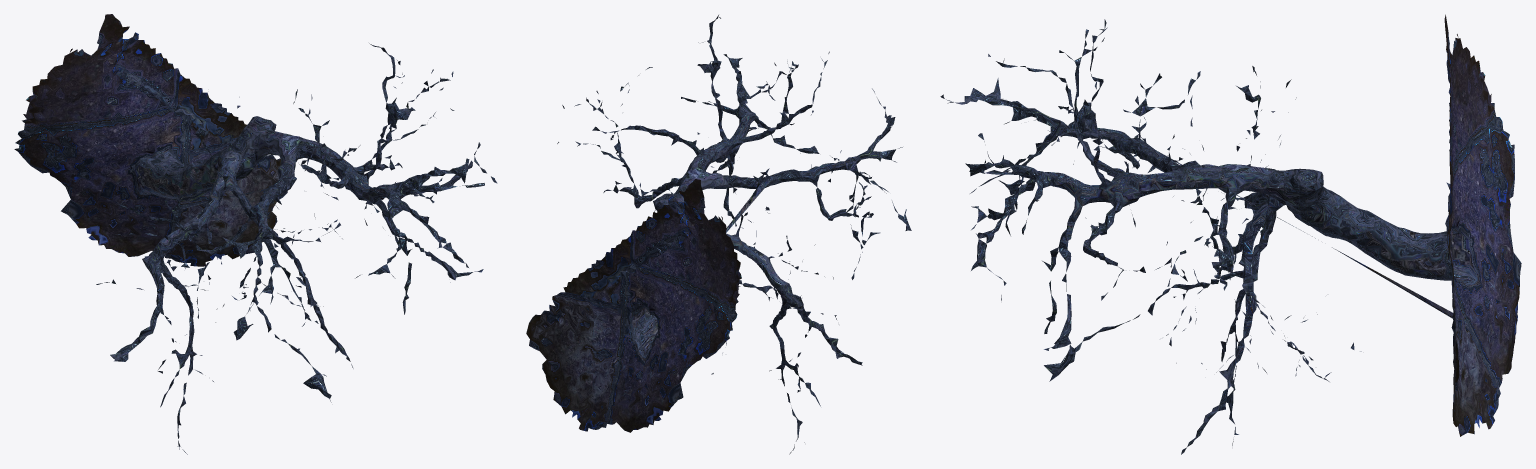
Rendered from arvore.obj.
3 renders of one model, left to right at view 1: azimuth 30°, elevation 25°; view 2: azimuth 150°, elevation 25°; view 3: azimuth 270°, elevation 25°, orthographic. The views are drawn at different scales.
Size of the model in its own units: 32.59 by 37.94 by 40.3.
Materials: 1 (1 with a texture image).
